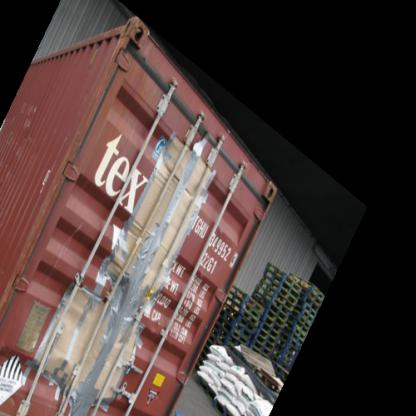Damage: (54, 104, 221, 415)
